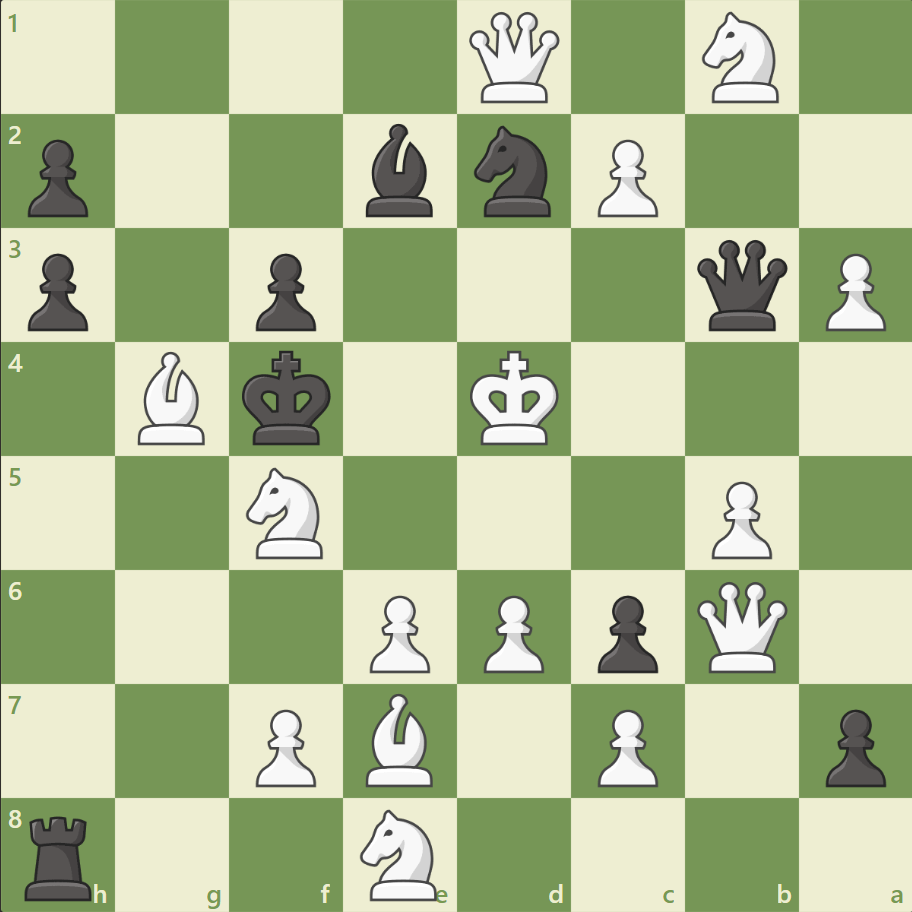B: (358, 687, 442, 790), (131, 347, 215, 449)
K: (465, 344, 565, 452)
N: (351, 802, 449, 904), (238, 461, 335, 564), (692, 7, 789, 110)
P: (247, 700, 322, 791), (474, 586, 549, 677), (701, 473, 776, 564), (588, 700, 662, 791), (361, 586, 435, 677), (815, 246, 889, 337), (588, 132, 662, 223)
Q: (691, 576, 790, 676), (464, 9, 563, 108)
b: (358, 120, 442, 222)
k: (238, 344, 338, 452)
n: (465, 121, 562, 223)
p: (247, 246, 322, 337), (20, 246, 95, 337), (20, 132, 95, 223), (815, 700, 889, 791), (588, 586, 662, 677)
q: (691, 236, 790, 335)
r: (19, 806, 102, 904)
